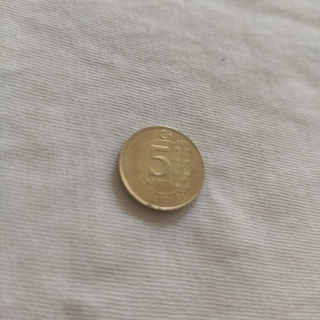5KURUS: (115, 122, 207, 213)
